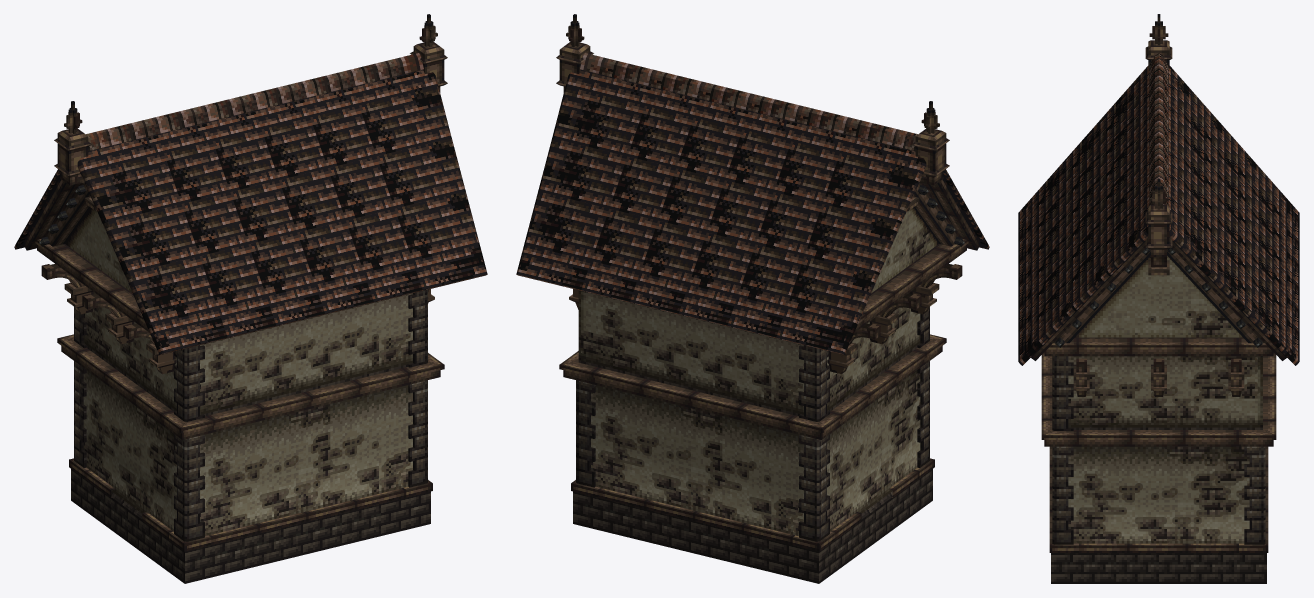
The model's file is EnvBdgMD_City_D_Outdoor_4W5D_2F.FBX.
3 renders of one model, left to right at view 1: azimuth 30°, elevation 25°; view 2: azimuth 150°, elevation 25°; view 3: azimuth 270°, elevation 25°, orthographic. The views are drawn at different scales.
Visible parts, largest first — view 1: EnvBdgMD_City_D_Outdoor_4W5D_2F; view 2: EnvBdgMD_City_D_Outdoor_4W5D_2F; view 3: EnvBdgMD_City_D_Outdoor_4W5D_2F.
Part boxes in pixels (left/top/right/bottom): EnvBdgMD_City_D_Outdoor_4W5D_2F: left=14, top=14, right=487, bottom=583; EnvBdgMD_City_D_Outdoor_4W5D_2F: left=516, top=14, right=989, bottom=583; EnvBdgMD_City_D_Outdoor_4W5D_2F: left=1018, top=14, right=1299, bottom=583.
Bounding box in the file's own units: 780 × 890 × 527.
